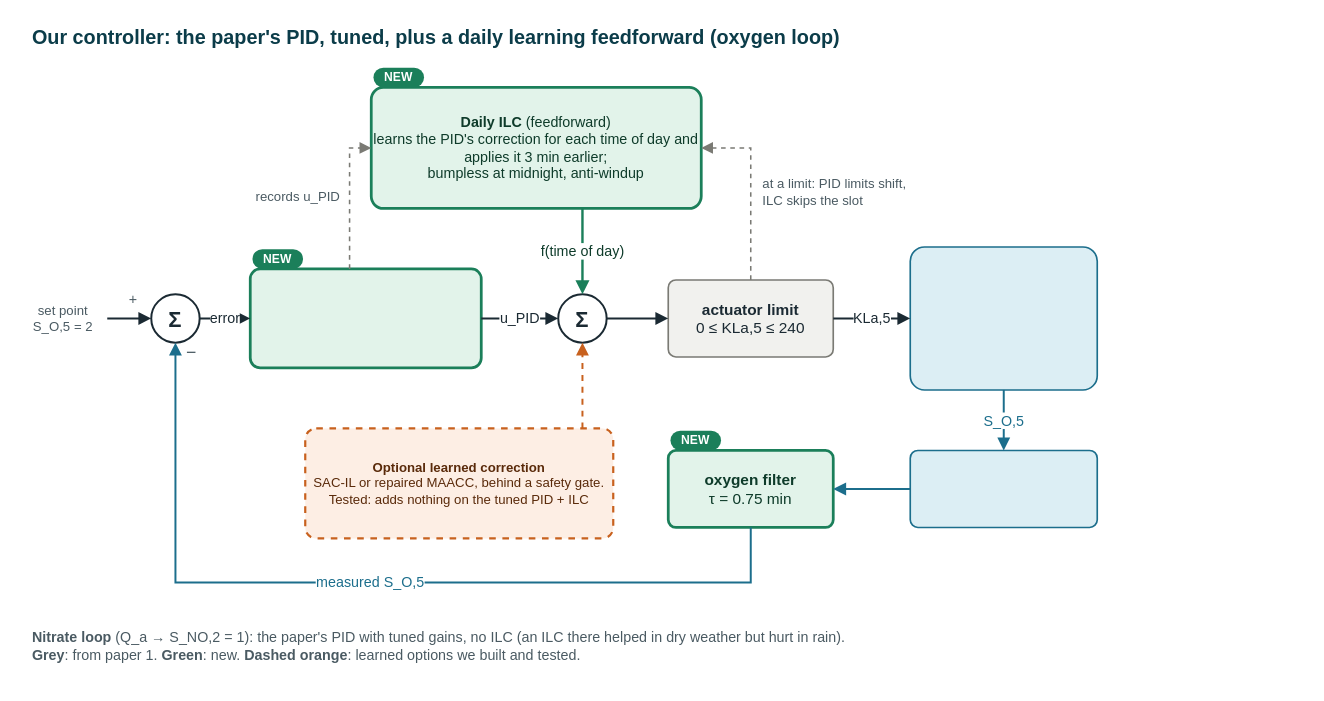
Some shapes in this 1324 by 701 pixel diagram are drawn without their labels. The box of each missing label's shape, as (x1, y1, x2, y2) in pixels:
BSM1 plant tank 5: (909, 246, 1098, 390)
sensor official model: delay + noise: (909, 449, 1098, 528)
Tuned PID P and I tuned per loop (robust version: gains ×0.5): (248, 267, 482, 369)
